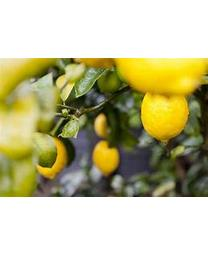lemon: (142, 90, 190, 141)
